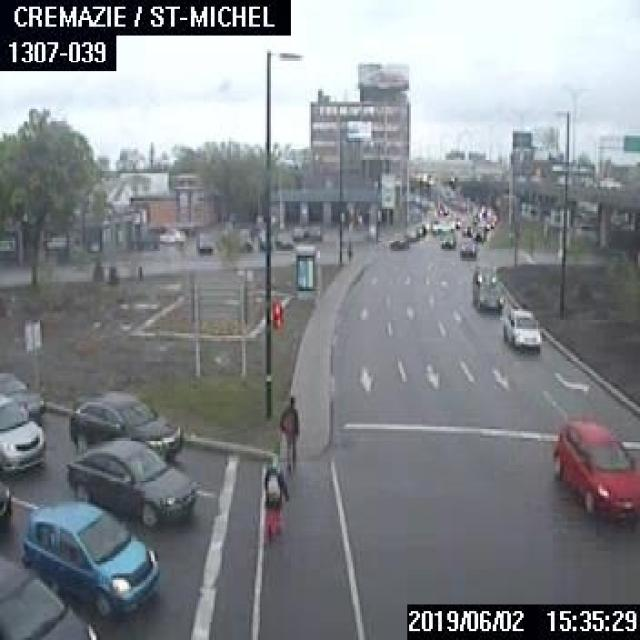pedestrian: (260, 454, 287, 542), (277, 395, 299, 476)
vehicle: (21, 497, 159, 616), (64, 436, 194, 525), (547, 411, 638, 513), (65, 389, 180, 461), (0, 558, 100, 638), (0, 394, 44, 474), (0, 369, 42, 413), (500, 304, 540, 349), (474, 282, 502, 307), (471, 262, 496, 284), (156, 226, 184, 243), (132, 230, 158, 248), (0, 480, 11, 522), (457, 237, 477, 257), (387, 230, 407, 249), (195, 231, 212, 251), (440, 230, 456, 248), (471, 222, 485, 240)
